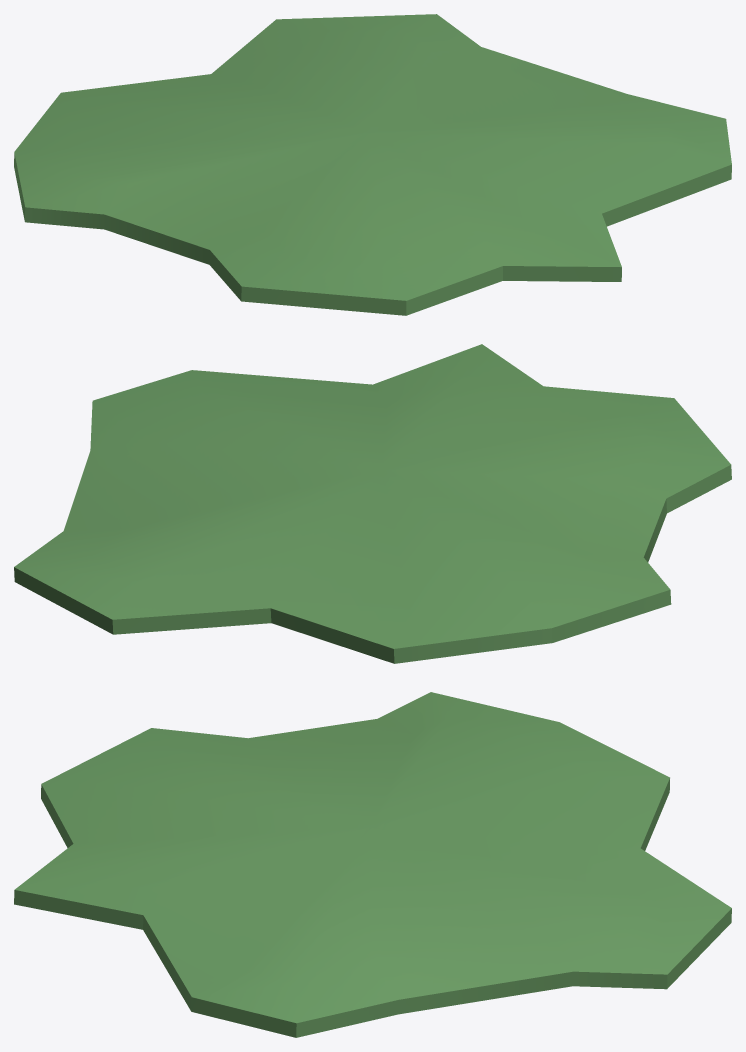
Rendered from DoubleCooked_Salad.fbx.
3 renders of one model, top to bottom at view 1: azimuth 30°, elevation 25°; view 2: azimuth 150°, elevation 25°; view 3: azimuth 270°, elevation 25°, orthographic.
Visible parts, largest first — view 1: DoubleCooked_Salad; view 2: DoubleCooked_Salad; view 3: DoubleCooked_Salad.
Boxes of the visible parts, x1=… form: DoubleCooked_Salad: x1=14, y1=14, x2=731, y2=315; DoubleCooked_Salad: x1=14, y1=344, x2=731, y2=663; DoubleCooked_Salad: x1=14, y1=692, x2=731, y2=1037.
Size of the model in its own units: 12.84 by 1.07 by 12.42.
Materials: 1 (1 with a texture image).
